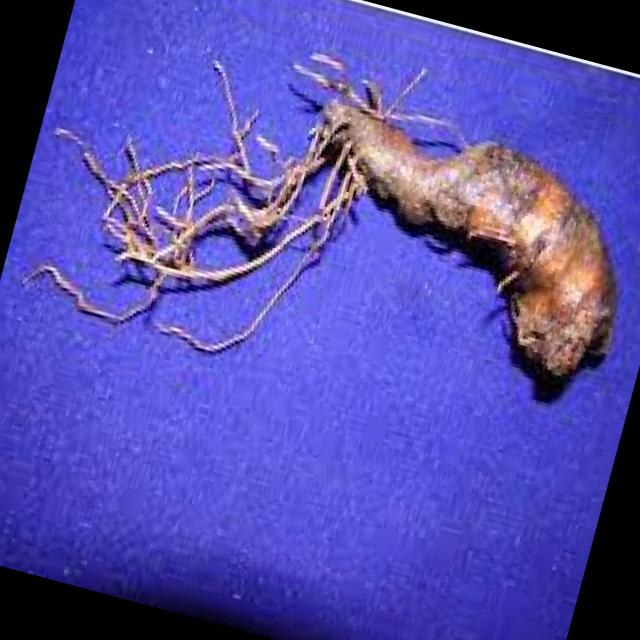Meetha: (54, 0, 640, 539)
